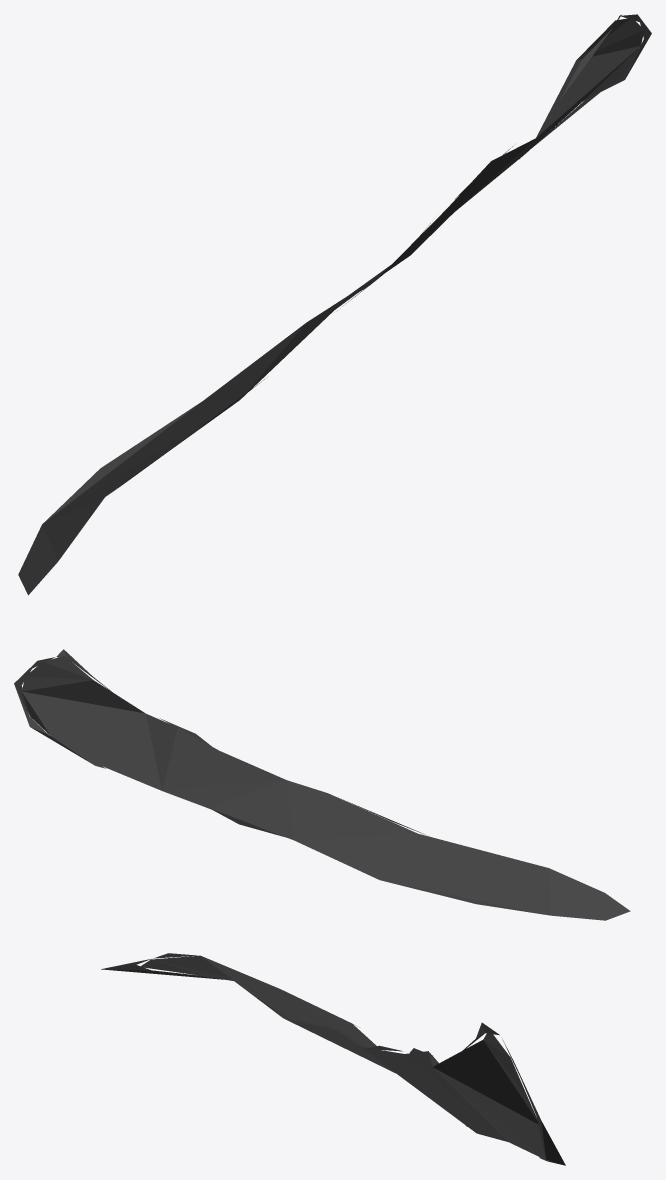
The model's file is A_pudendal_internal_L_A_pudendal_internal_L.glb.
3 renders of one model, top to bottom at view 1: azimuth 30°, elevation 25°; view 2: azimuth 150°, elevation 25°; view 3: azimuth 270°, elevation 25°, orthographic. The views are drawn at different scales.
Parts seen in each view (by area): view 1: A_pudendal_internal_L_A_pudendal_internal_L; view 2: A_pudendal_internal_L_A_pudendal_internal_L; view 3: A_pudendal_internal_L_A_pudendal_internal_L.
Part boxes in pixels (x1=…): A_pudendal_internal_L_A_pudendal_internal_L: x1=18, y1=14, x2=651, y2=595; A_pudendal_internal_L_A_pudendal_internal_L: x1=14, y1=649, x2=630, y2=920; A_pudendal_internal_L_A_pudendal_internal_L: x1=101, y1=953, x2=565, y2=1165.
Size of the model in its own units: 0.0159 by 0.00617 by 0.00609.
1 material, 1 textured.
